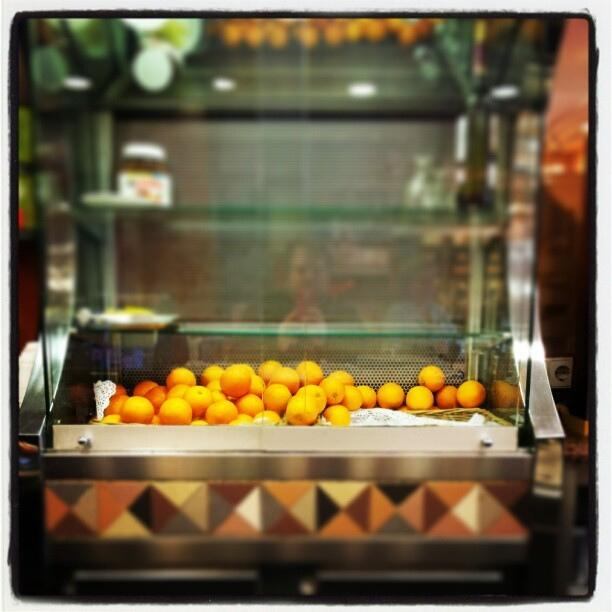orange: (219, 364, 252, 398), (294, 384, 328, 414), (182, 385, 213, 417), (286, 395, 318, 426), (120, 395, 154, 424), (157, 398, 192, 426), (270, 366, 300, 396), (263, 384, 292, 414), (205, 400, 238, 426), (296, 360, 324, 390), (456, 380, 486, 408), (377, 382, 405, 410), (234, 393, 265, 418), (418, 365, 446, 392), (319, 377, 345, 405), (144, 386, 168, 415), (166, 368, 196, 391), (406, 386, 434, 410), (103, 394, 130, 418), (322, 404, 351, 426), (341, 384, 363, 411), (258, 361, 282, 385), (436, 386, 460, 410), (201, 366, 224, 387), (132, 380, 160, 397), (356, 386, 376, 409), (165, 384, 191, 401), (328, 370, 355, 386), (253, 411, 281, 426), (250, 374, 266, 399), (101, 414, 126, 423), (211, 390, 228, 403), (206, 380, 223, 392), (238, 414, 254, 424), (115, 384, 127, 395), (228, 420, 252, 425), (190, 420, 208, 426), (151, 414, 160, 424)
